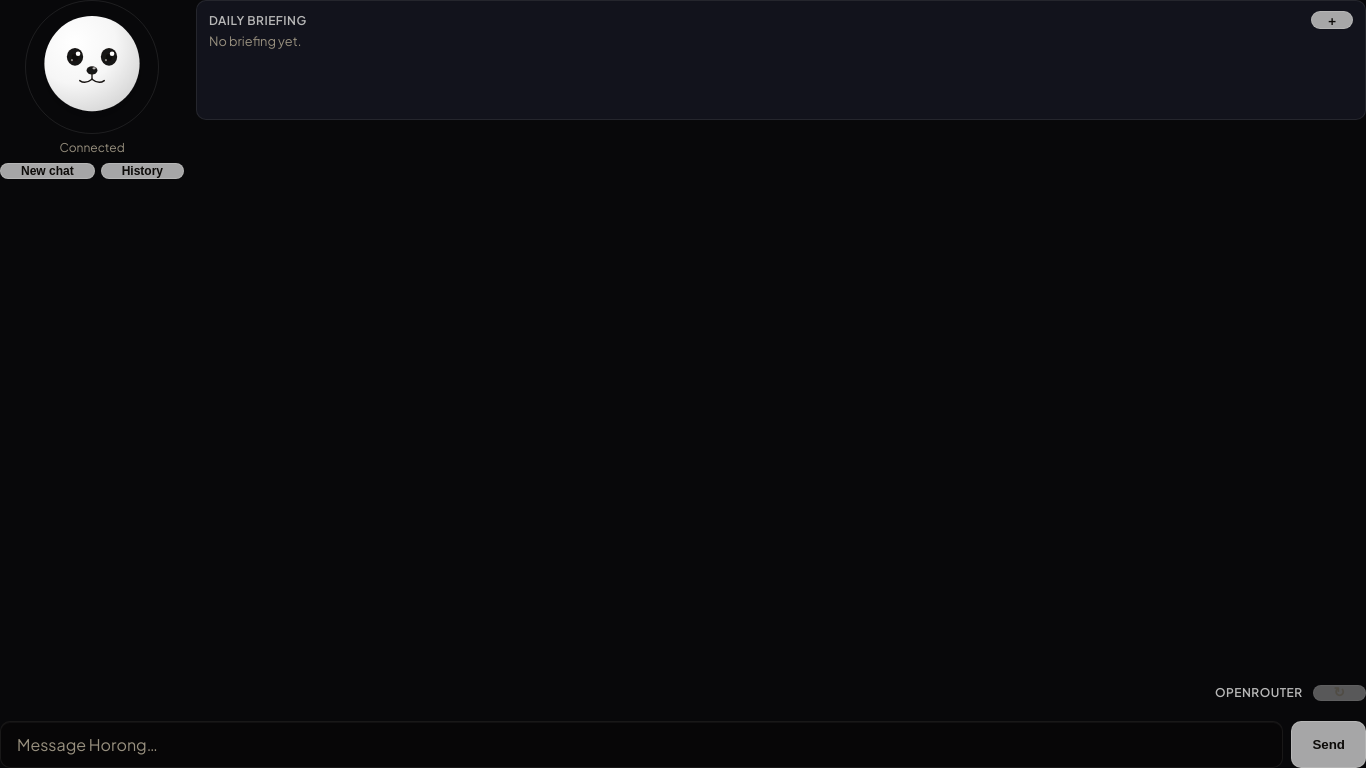
ChatPanel › switches to the clicked session and closes the history panel
The image size is (1366, 768).
Step 1. Click the button "History" → (142, 171), box [101,163,184,179]
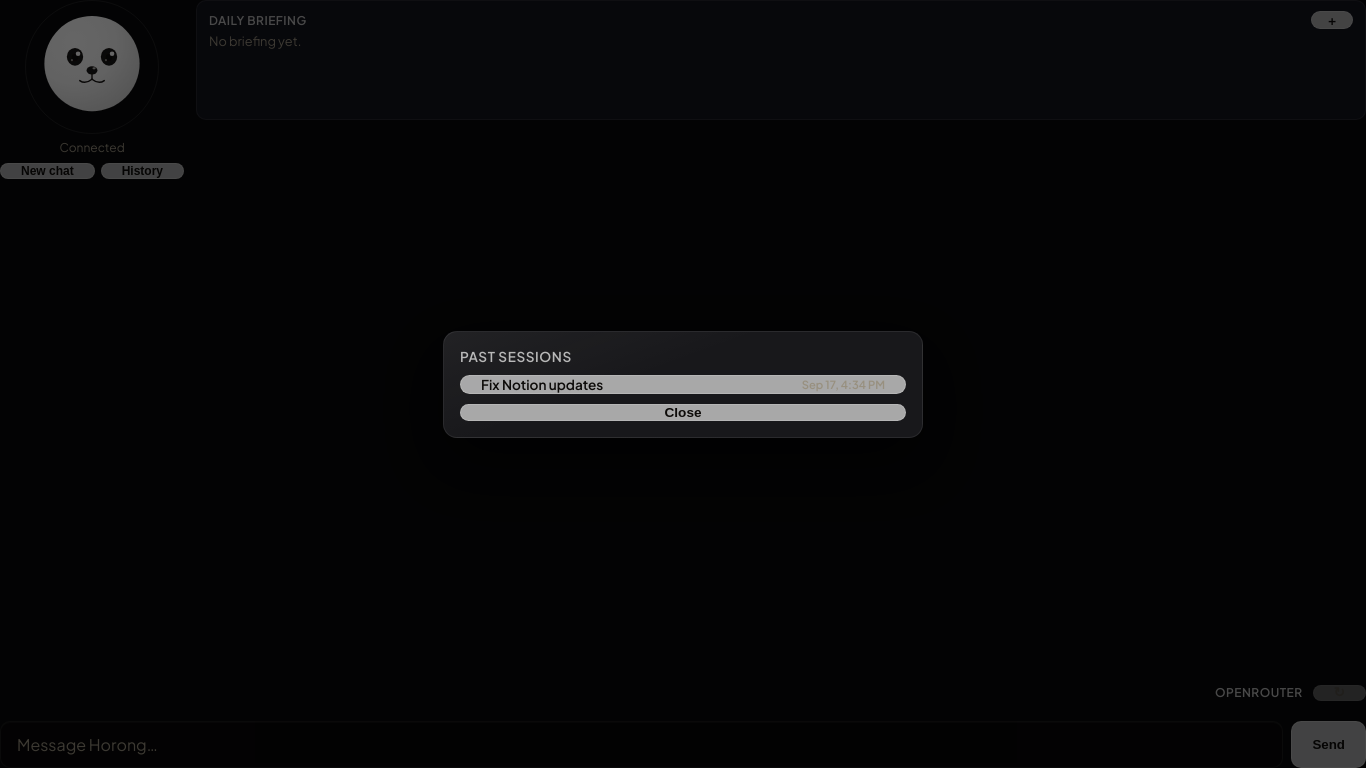
Step 2. Click the text "Fix Notion updates" → (542, 384), box [481,376,603,392]
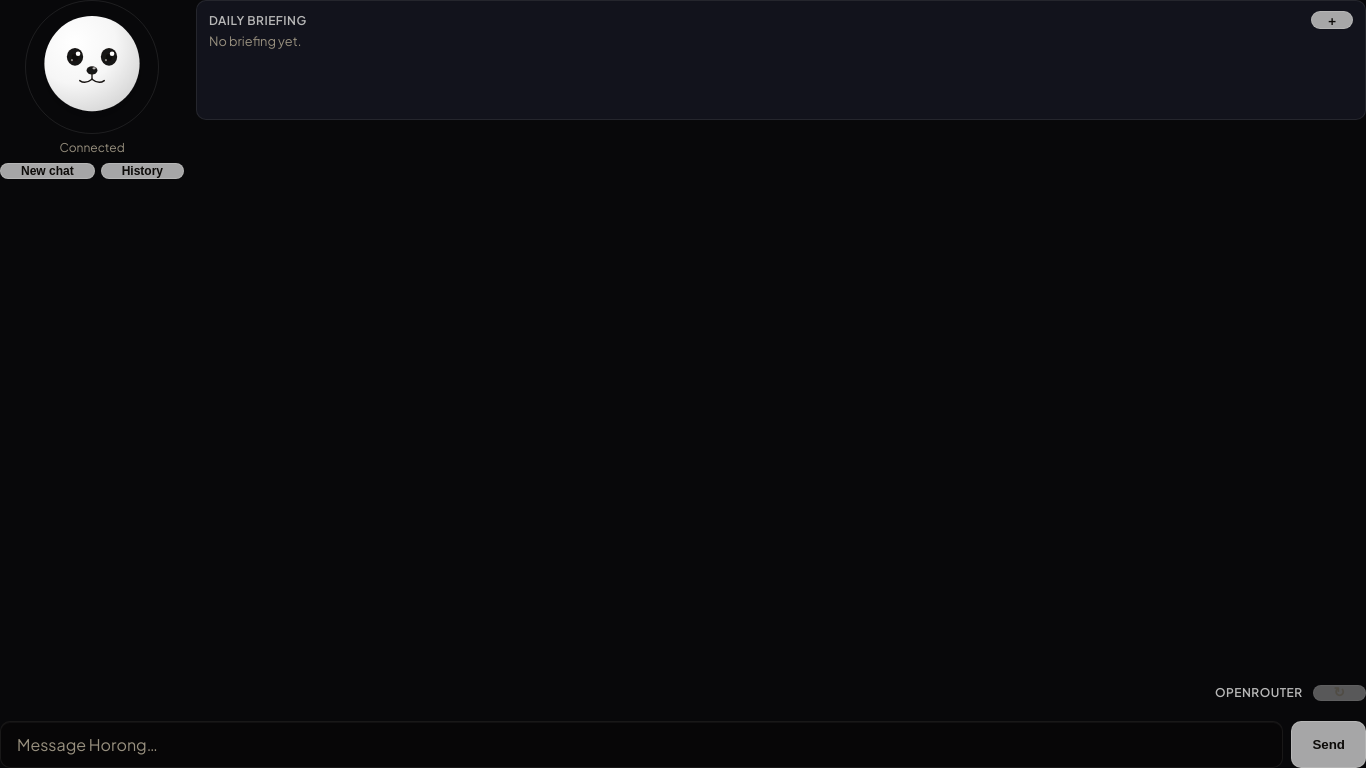
Check: the button "Fix Notion updates" is gone
